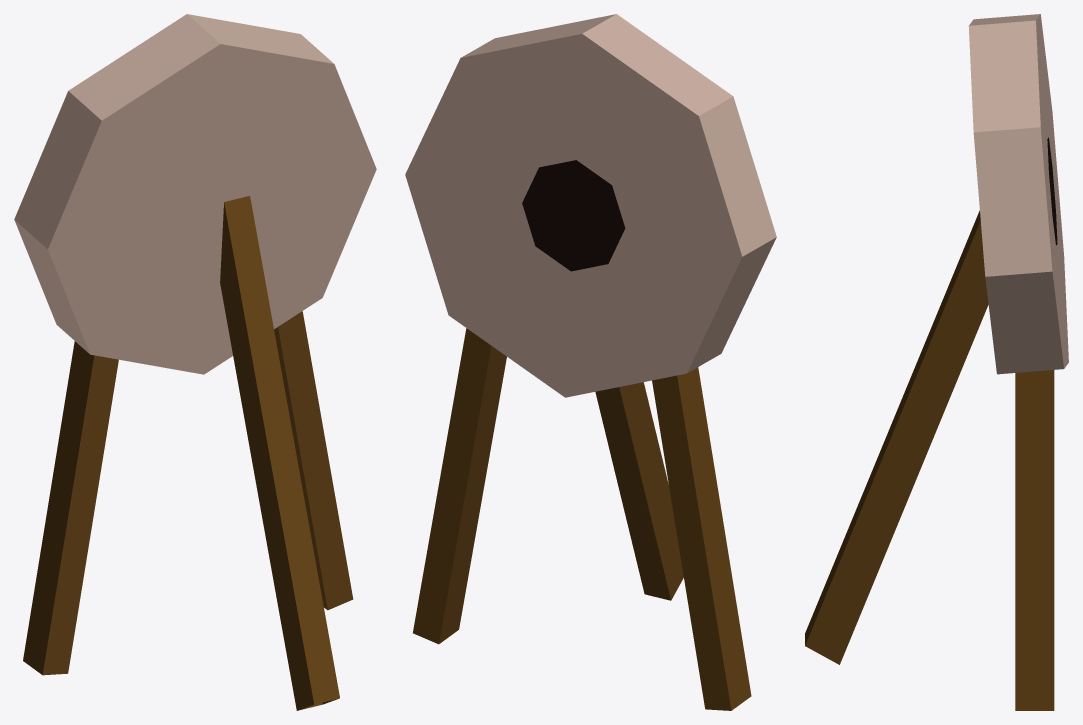
File: Target_low.FBX
3 views of the same model, side by side, from view 1: azimuth 30°, elevation 25°; view 2: azimuth 150°, elevation 25°; view 3: azimuth 270°, elevation 25° (orthographic). The views are drawn at different scales.
Parts seen in each view (by area): view 1: Cylinder145; view 2: Cylinder145; view 3: Cylinder145.
Boxes of the visible parts, x1,y1,x2,y2 form: Cylinder145: (14, 14, 376, 710); Cylinder145: (405, 14, 776, 710); Cylinder145: (805, 14, 1068, 710).
Bounding box in the file's own units: 1.15 × 2.1 × 0.8008.
